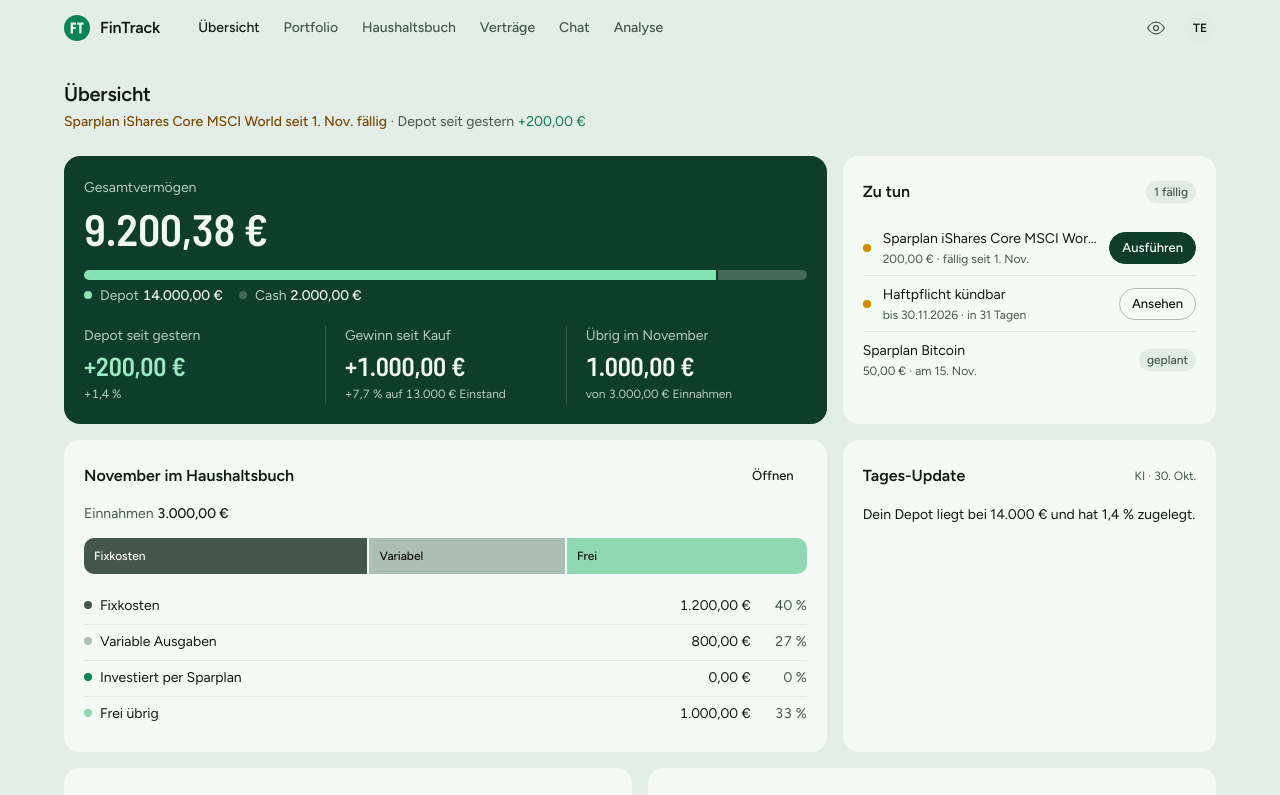
Test: Beträge verbergen › verbirgt Beträge über das Auge in der Leiste und merkt sich die Wahl
The image size is (1280, 795).
Click the button named "Beträge verbergen": {"x": 1156, "y": 28} top-left (1138, 10), bottom-right (1174, 46)
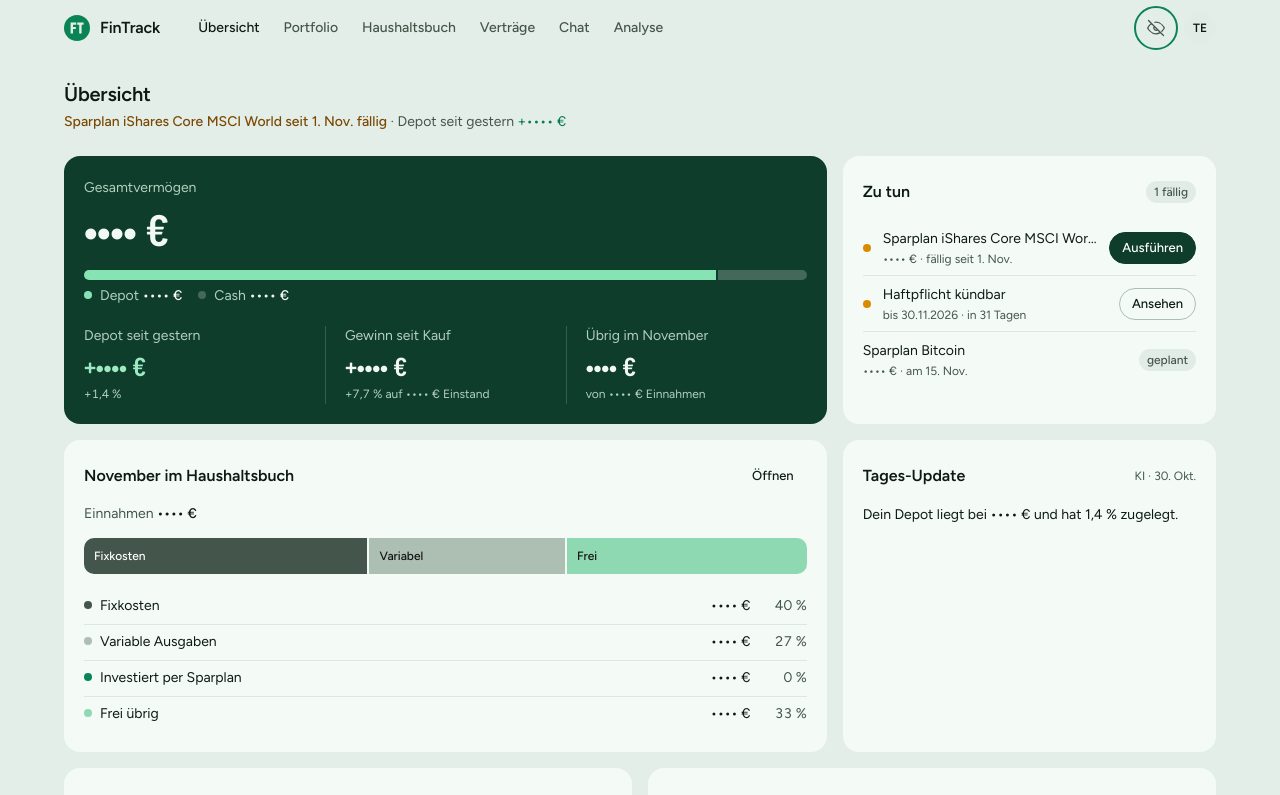
Check: the element "Gesamtvermögen" shows "Depot •••• €", box top-left (64, 156), bottom-right (827, 424)
Check: the element "Gesamtvermögen" shows "+7,7 % auf •••• € Einstand", box top-left (345, 387), bottom-right (490, 401)
Check: the text "Dein Depot liegt bei •••• € und hat 1,4 % zugelegt." is shown, box top-left (863, 504), bottom-right (1196, 526)
Click the button named "Beträge verbergen": {"x": 1156, "y": 28} top-left (1138, 10), bottom-right (1174, 46)
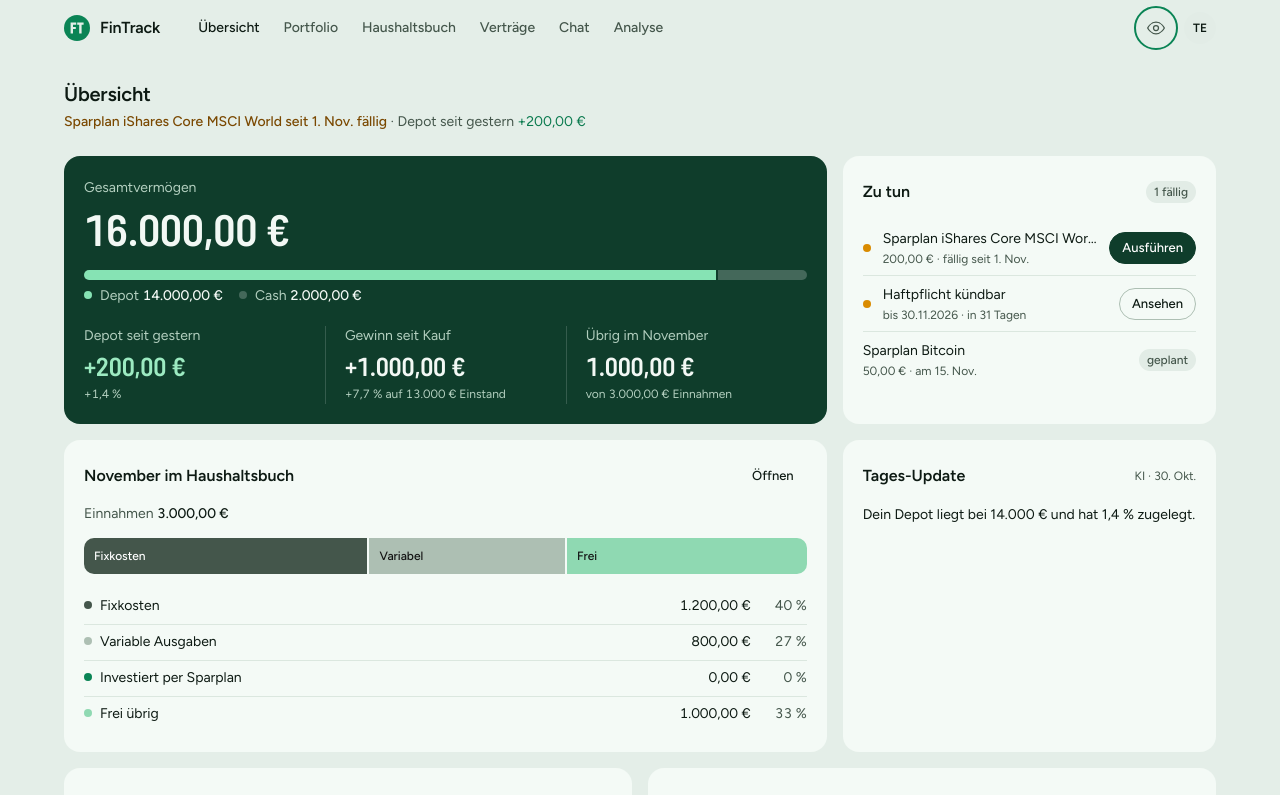
Check: the text "16.000,00 €" is shown, box top-left (84, 202), bottom-right (290, 255)
